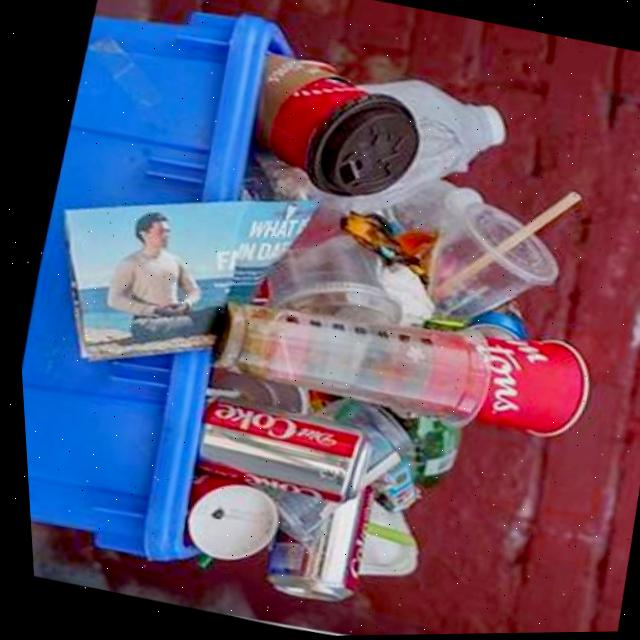Garbage: (57, 53, 581, 601)
